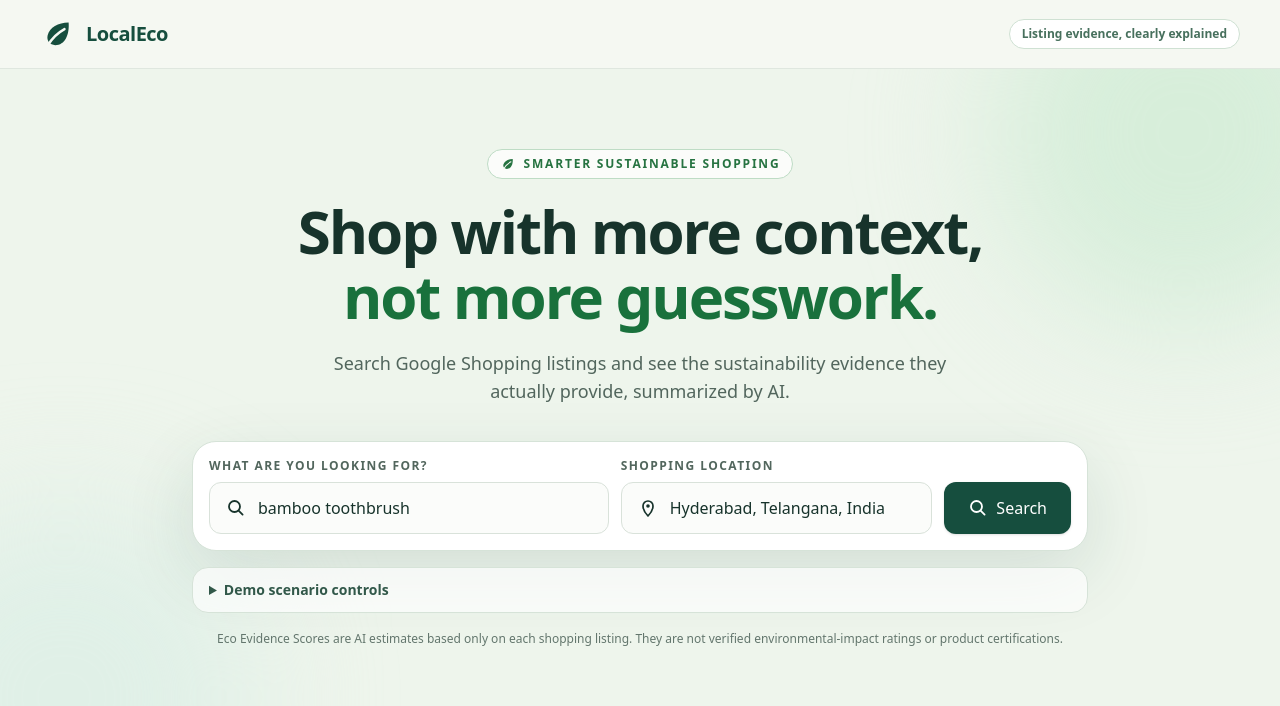
Scenario: SearchExperience › does not let a stale response overwrite a newer search
Submit the form "Search", box x1=192 y1=441 x2=1088 y2=551
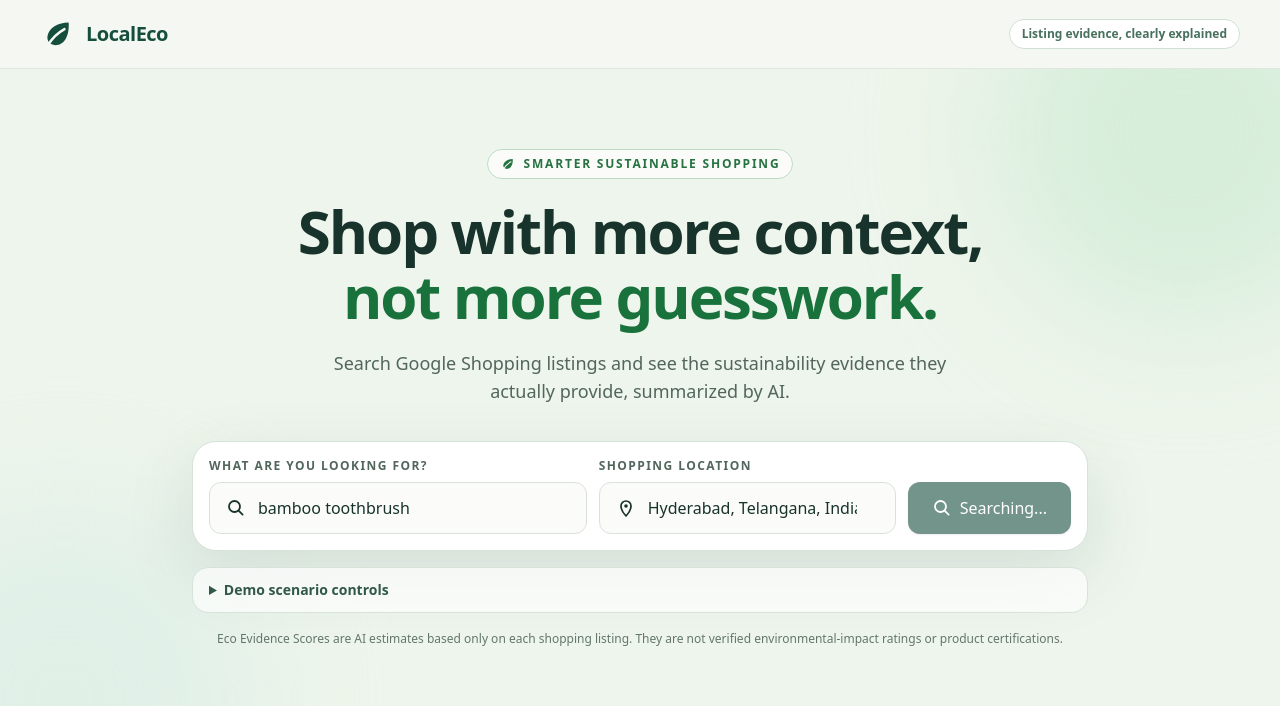
Replace the text in the field labelled "What are you looking for?" with "recycled notebook": coordinates (414, 508) x1=258 y1=484 x2=570 y2=532
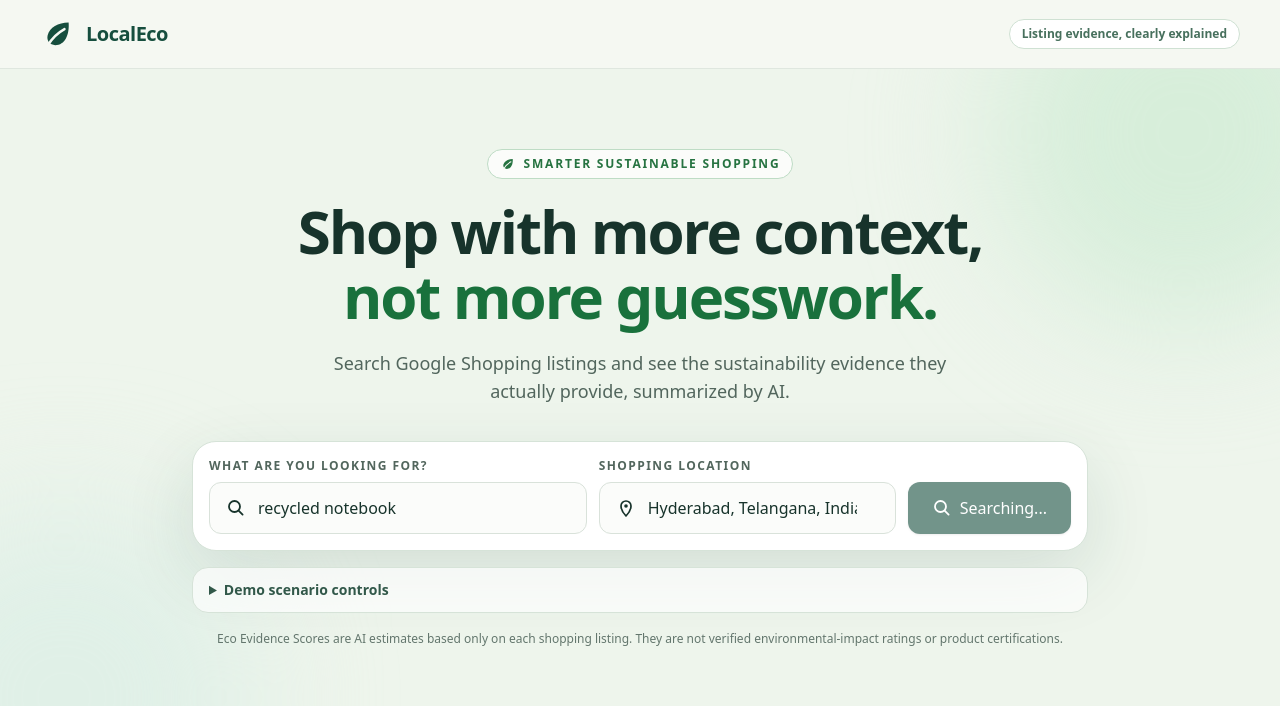
Submit the form "Search", box x1=192 y1=441 x2=1088 y2=551
(page scrolled)
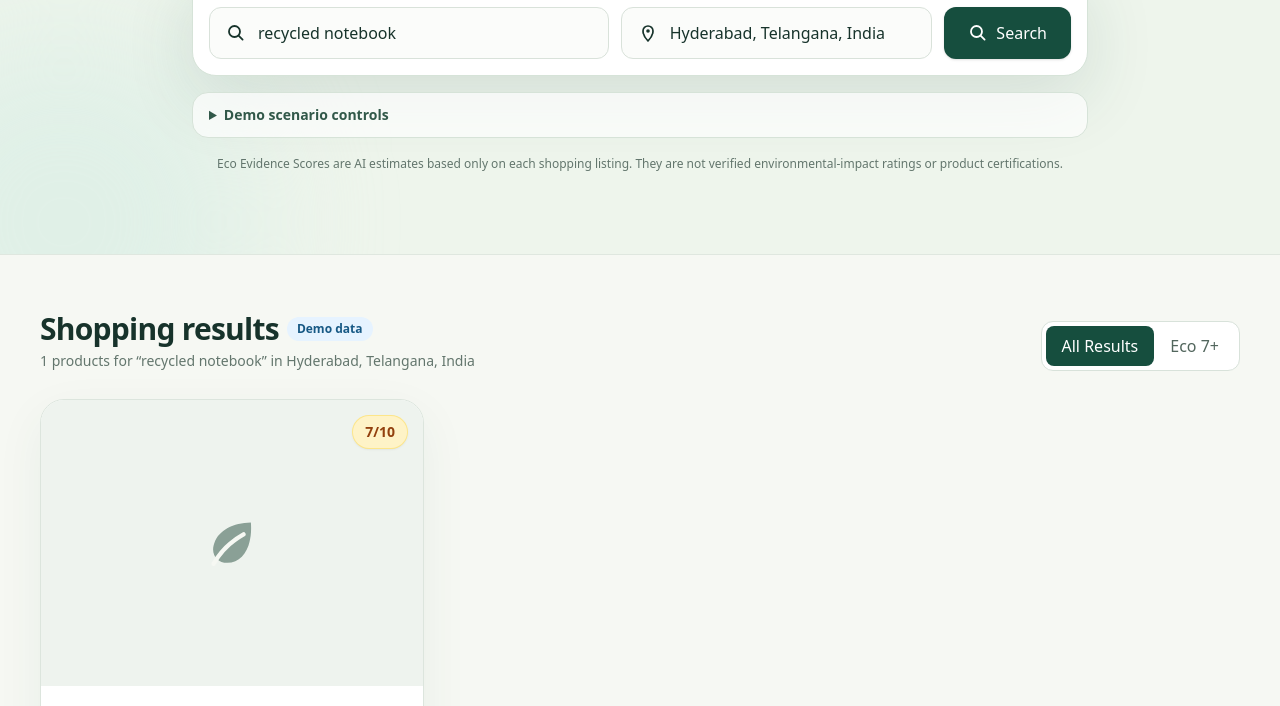
Expected: the text "products for “recycled notebook”" is shown, x1=40 y1=351 x2=475 y2=371
